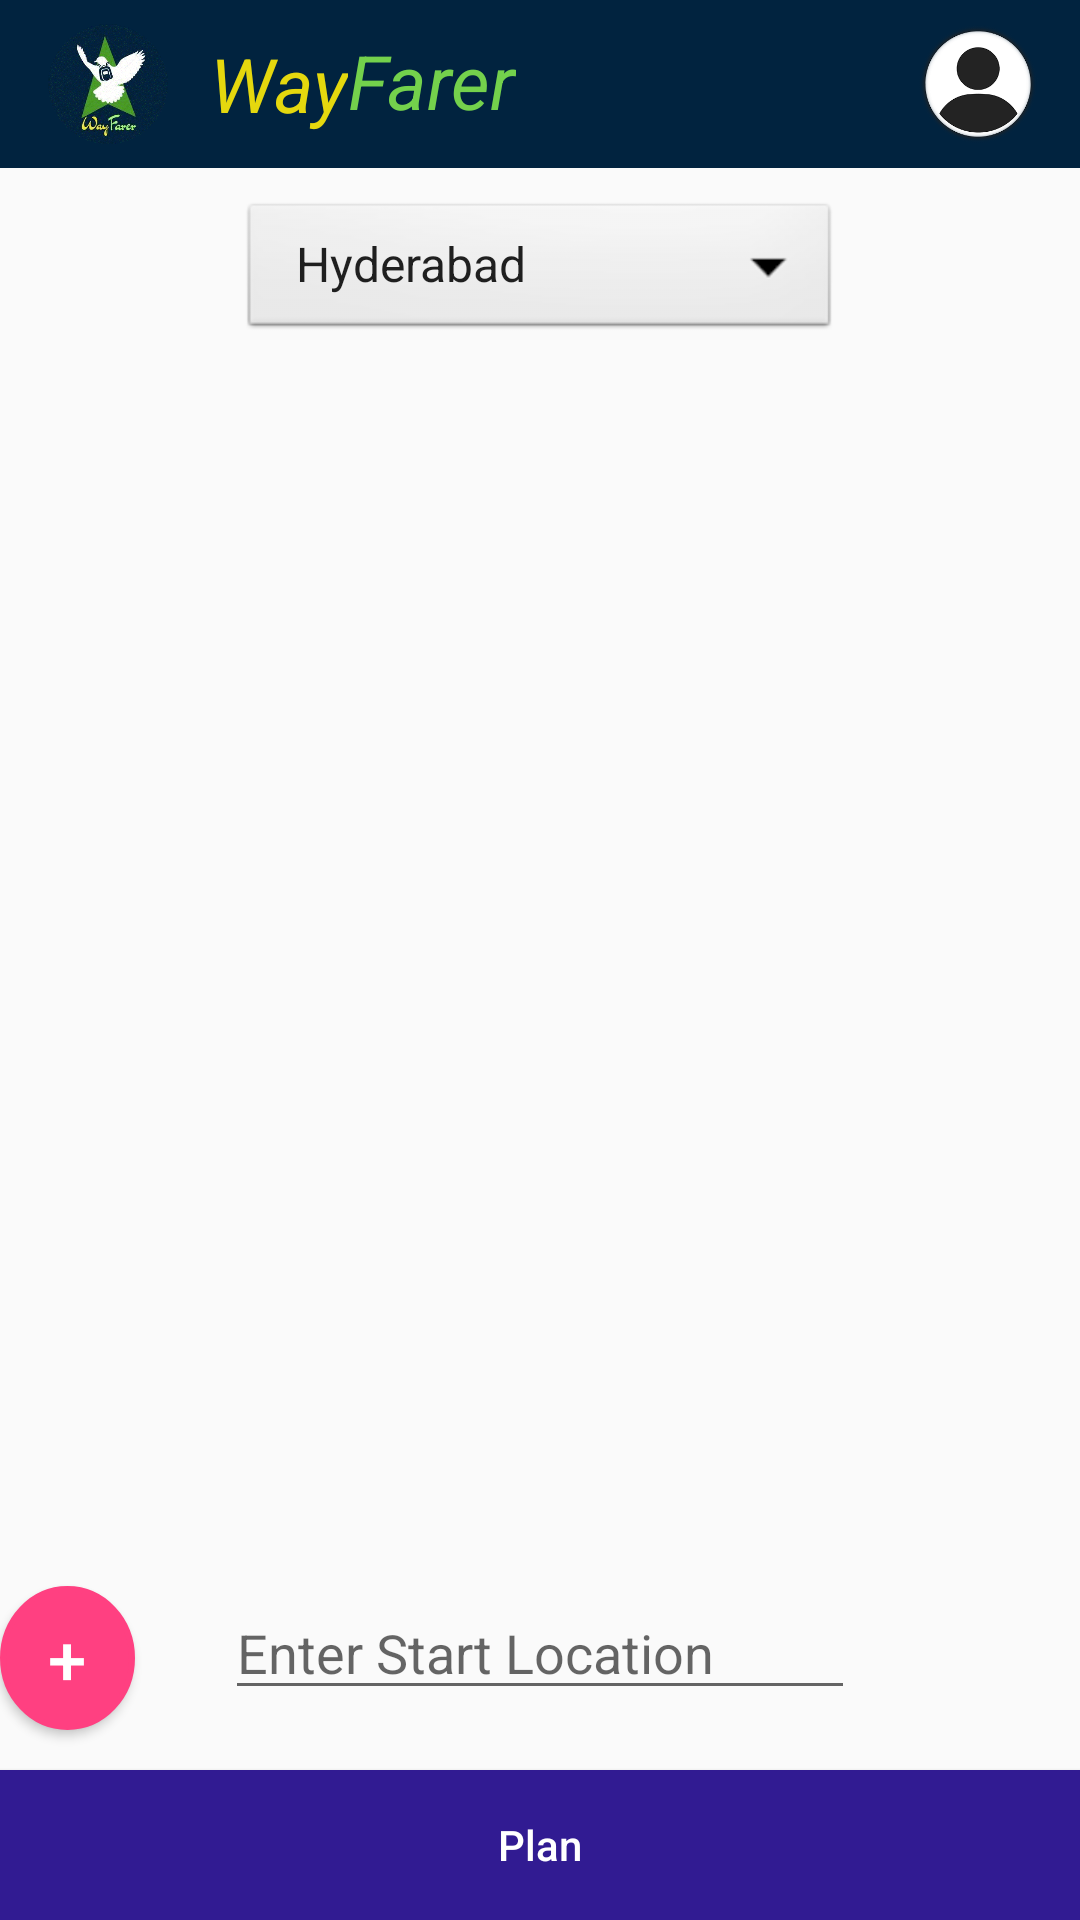

Point at icon controls on the screen. Image size 1080×1920, points as (x,y).
login: (978,84)
